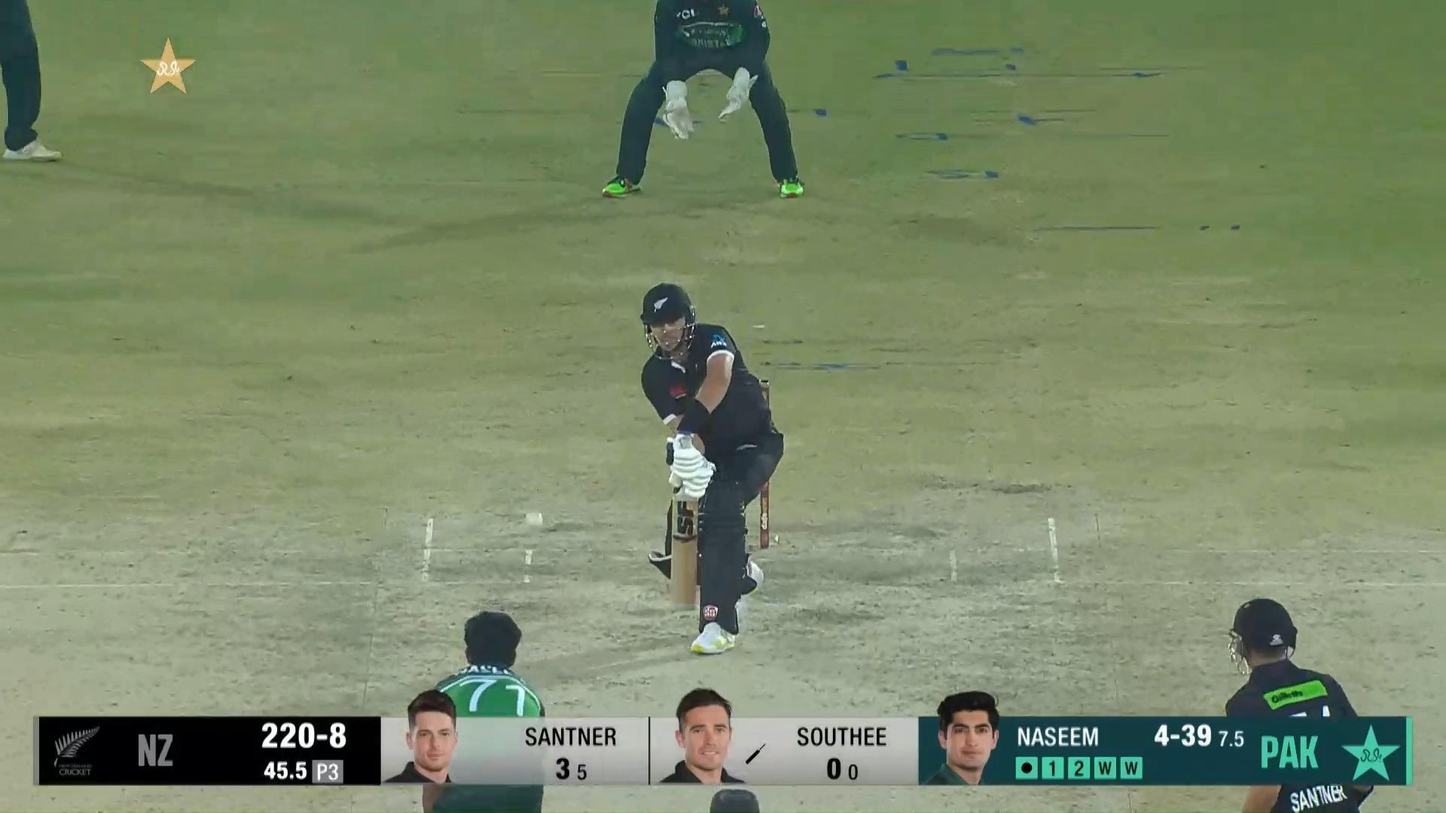BM 1: (639, 281, 784, 655)
BO: (420, 609, 546, 813)
